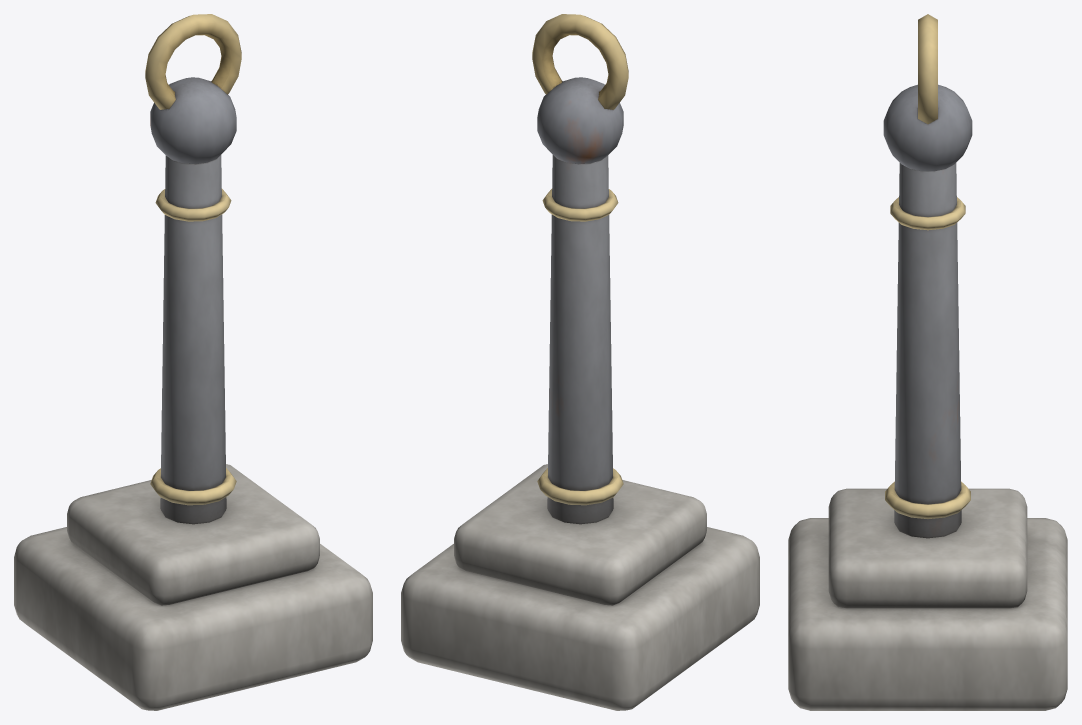
File: gnasher_post.glb
3 renders of one model, left to right at view 1: azimuth 30°, elevation 25°; view 2: azimuth 150°, elevation 25°; view 3: azimuth 270°, elevation 25°, orthographic.
Visible parts, largest first — view 1: gnasher_post; view 2: gnasher_post; view 3: gnasher_post.
Part boxes in pixels (bbox=[...]): gnasher_post: bbox=[14, 14, 372, 710]; gnasher_post: bbox=[401, 14, 759, 710]; gnasher_post: bbox=[788, 14, 1067, 710].
Size of the model in its own units: 0.62 by 1.57 by 0.62.
1 material, 1 textured.
